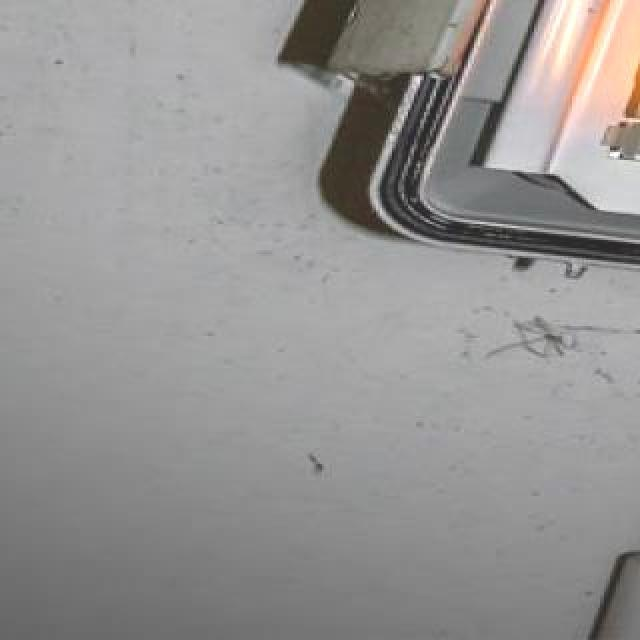fluorescent tube: (582, 0, 640, 208)
